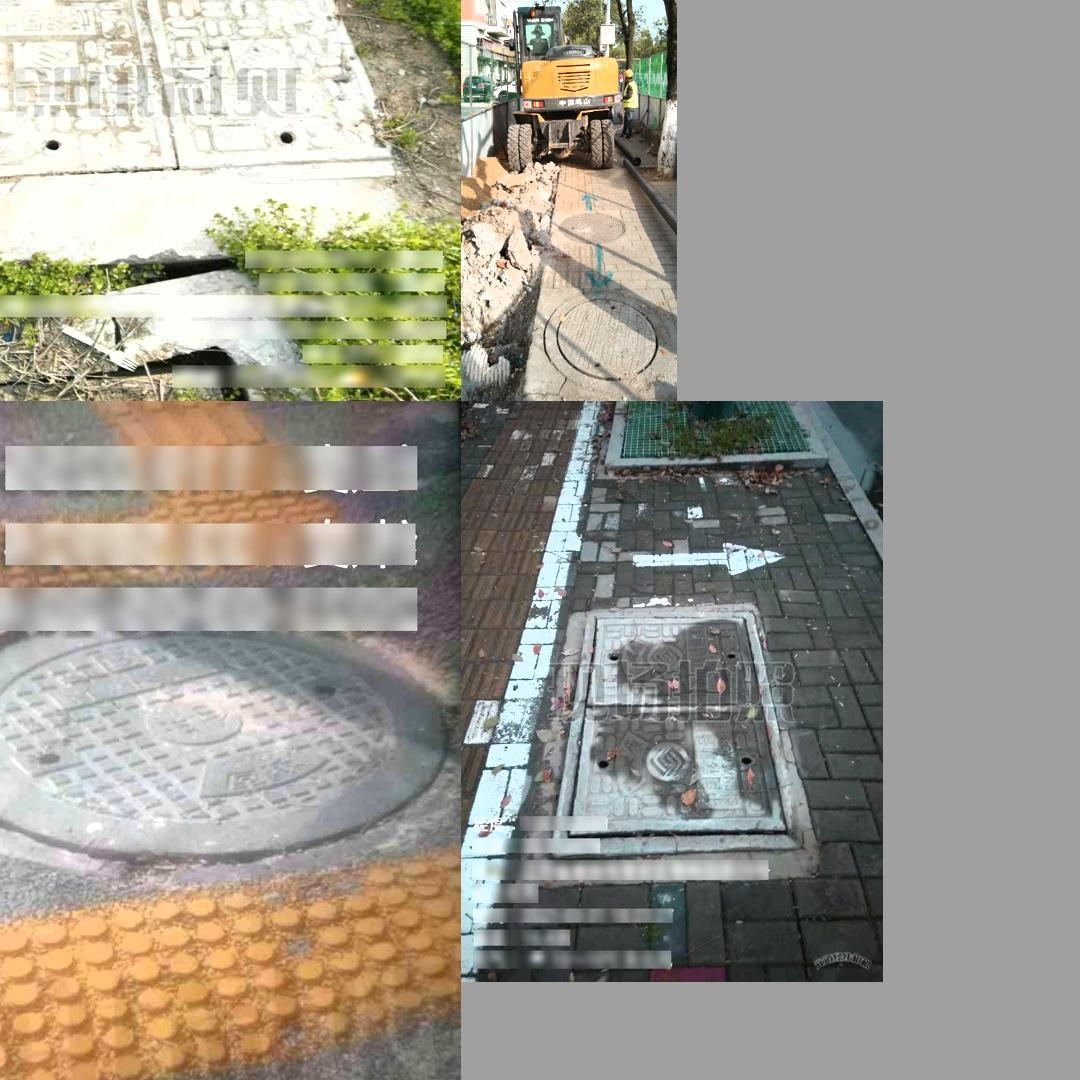good: (0, 562, 432, 884), (0, 0, 400, 186), (548, 610, 801, 856), (544, 290, 671, 392), (561, 211, 627, 244)
